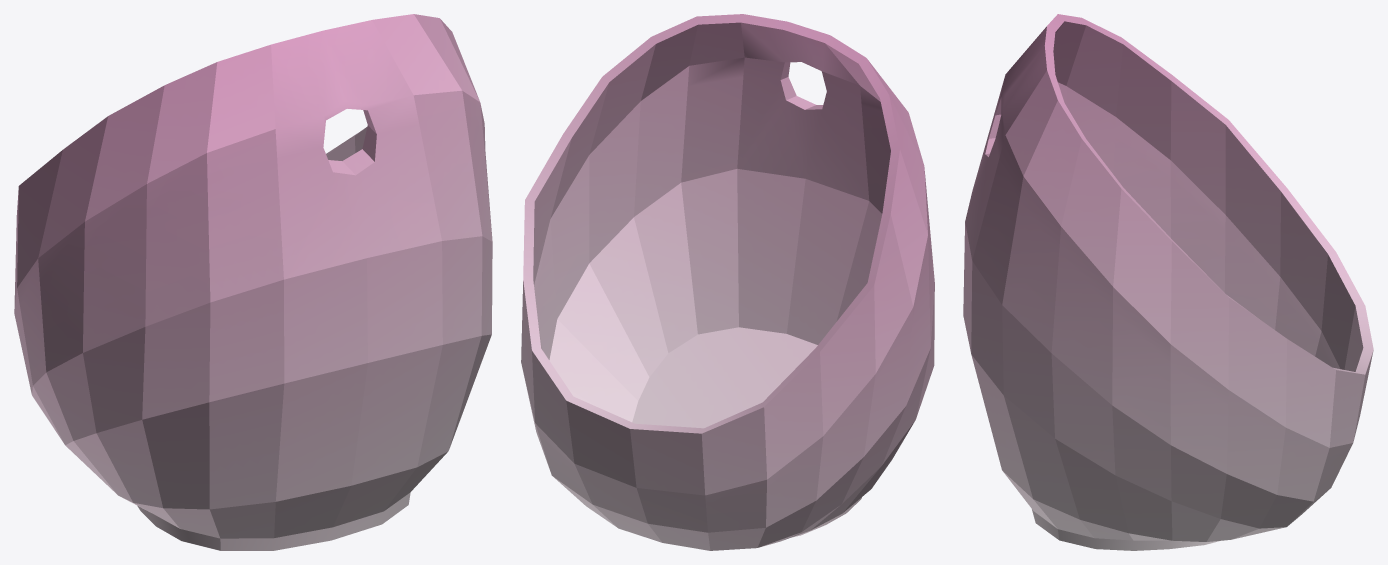
Rendered from PlantPot_11.fbx.
3 views of the same model, side by side, from view 1: azimuth 30°, elevation 25°; view 2: azimuth 150°, elevation 25°; view 3: azimuth 270°, elevation 25° (orthographic). The views are drawn at different scales.
Visible parts, largest first — view 1: PlantPot_11; view 2: PlantPot_11; view 3: PlantPot_11.
Boxes of the visible parts, x1,y1,x2,y2 form: PlantPot_11: [14, 14, 492, 550]; PlantPot_11: [521, 14, 934, 550]; PlantPot_11: [963, 14, 1373, 550].
Size of the model in its own units: 16.78 by 19.04 by 15.41.
